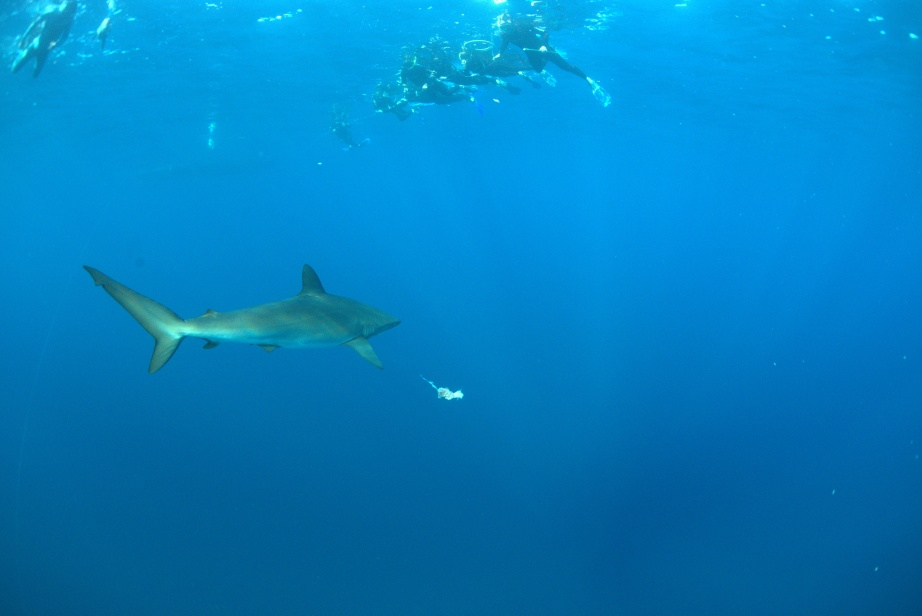Sedoso: (58, 246, 407, 380)
